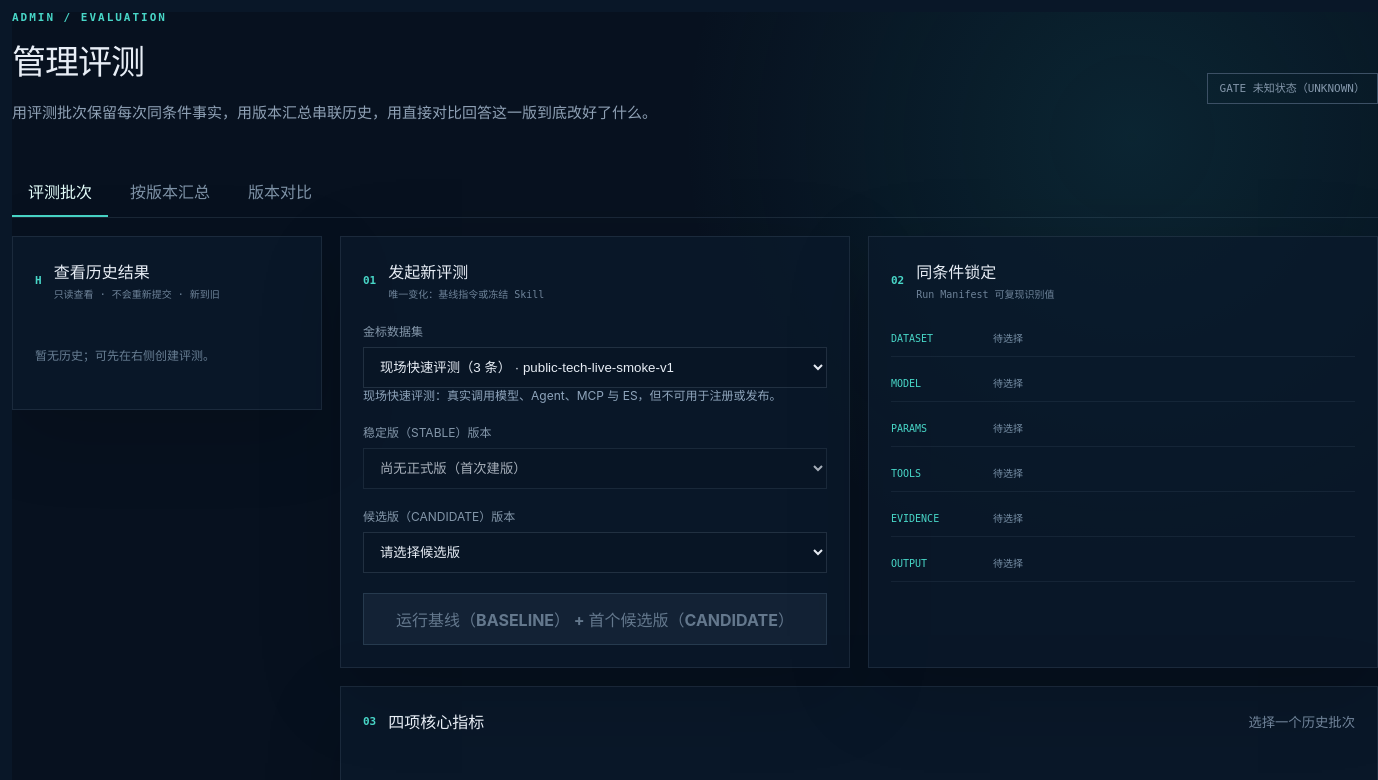
Test: EvaluationPage › 默认选择三条现场快速评测，并清楚区分三十条正式发布门禁
The image size is (1378, 780).
Expected: the text with test id "dataset-release-hint" shows "不可用于注册或发布", 363,388 -> 782,403
Select "正式完整评测（30 条） · public-tech-2024-v4" in the dropdown with test id "dataset-version" at coordinates (595, 368), box 363,347 -> 827,388
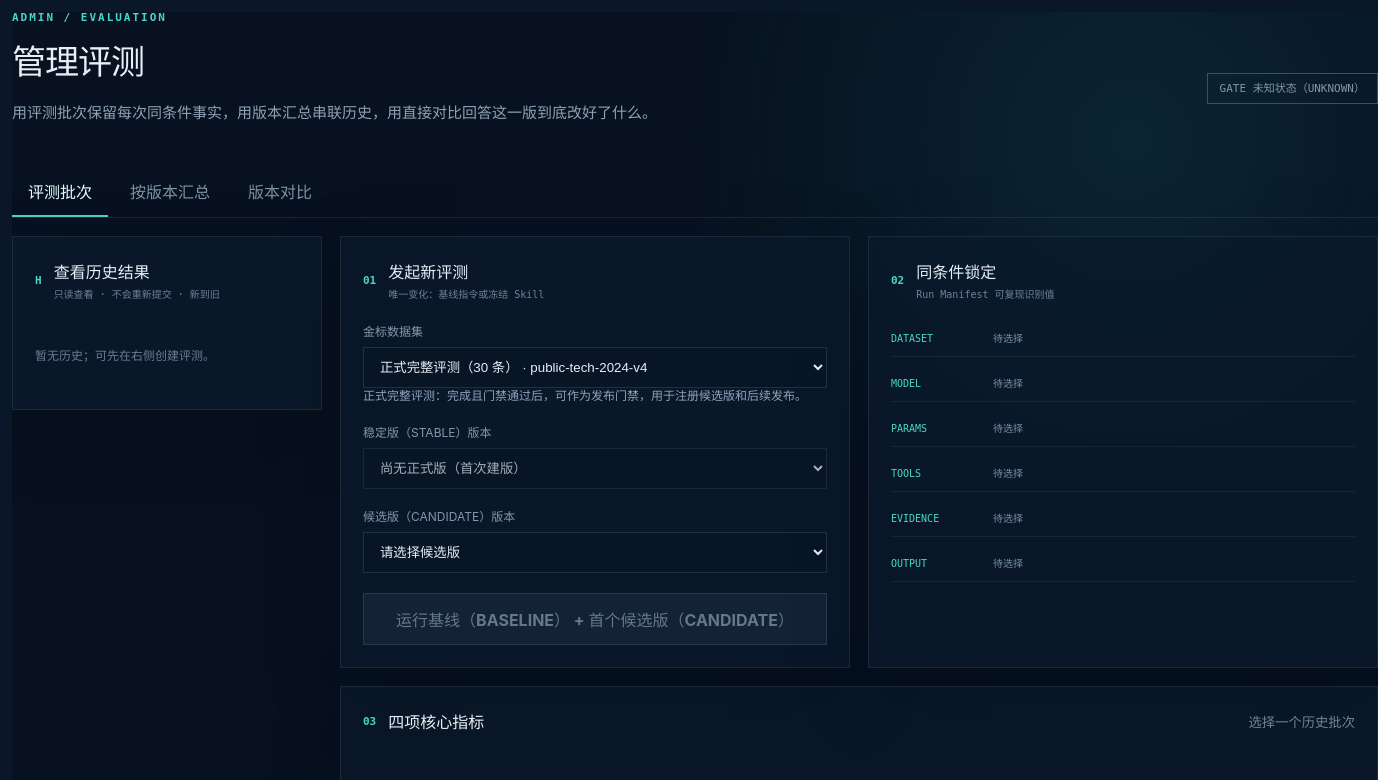
Expected: the text with test id "dataset-release-hint" shows "可作为发布门禁", 363,388 -> 807,403
